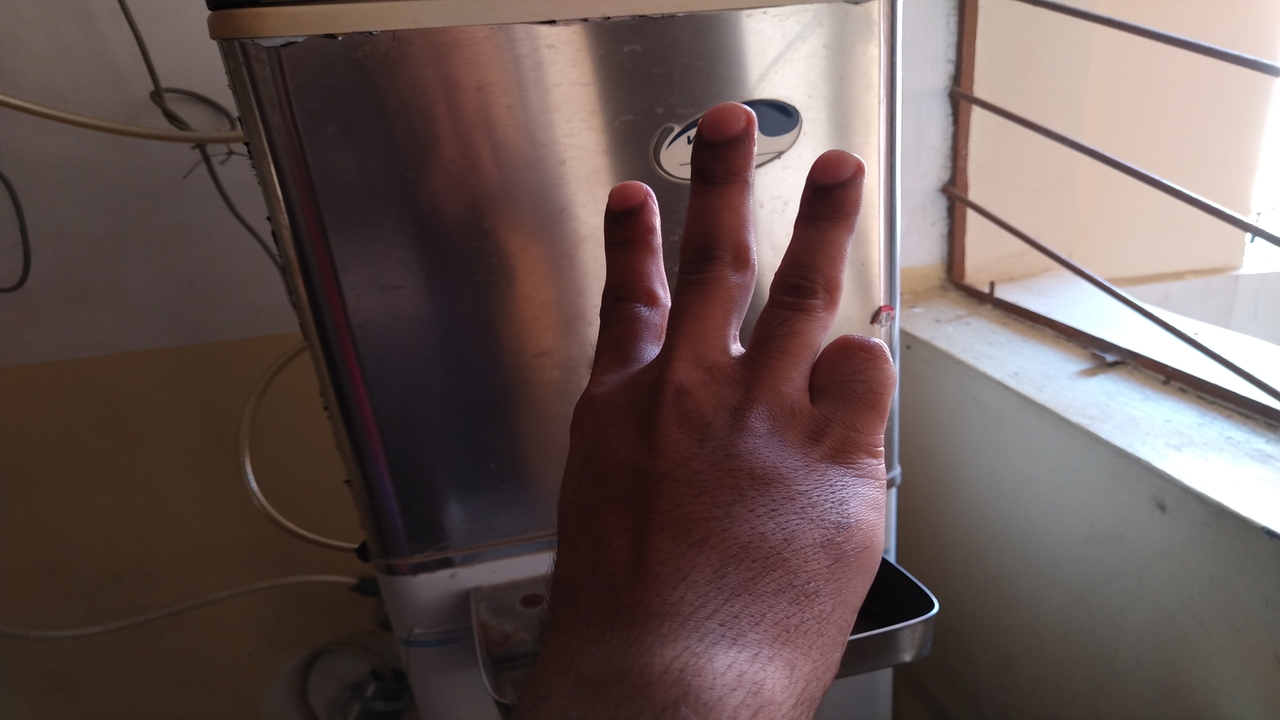fingertip: (798, 140, 872, 202), (690, 96, 758, 160), (598, 170, 660, 228)
